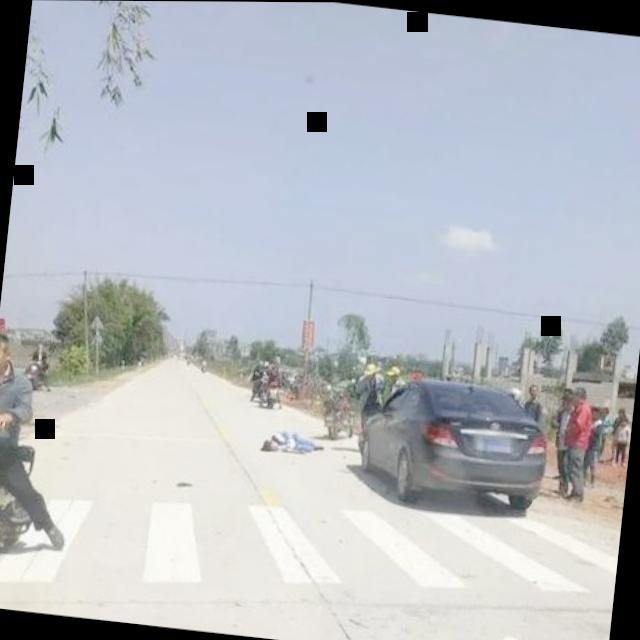Fall-Detected: (256, 415, 326, 458)
